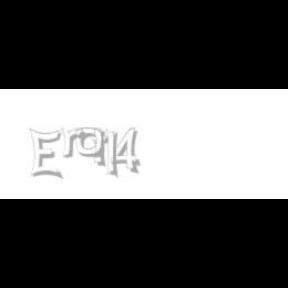4: (110, 128, 140, 174)
E: (29, 128, 62, 180)
l: (106, 128, 122, 180)
o: (76, 128, 104, 158)
r: (60, 128, 88, 158)
t: (91, 128, 113, 168)
